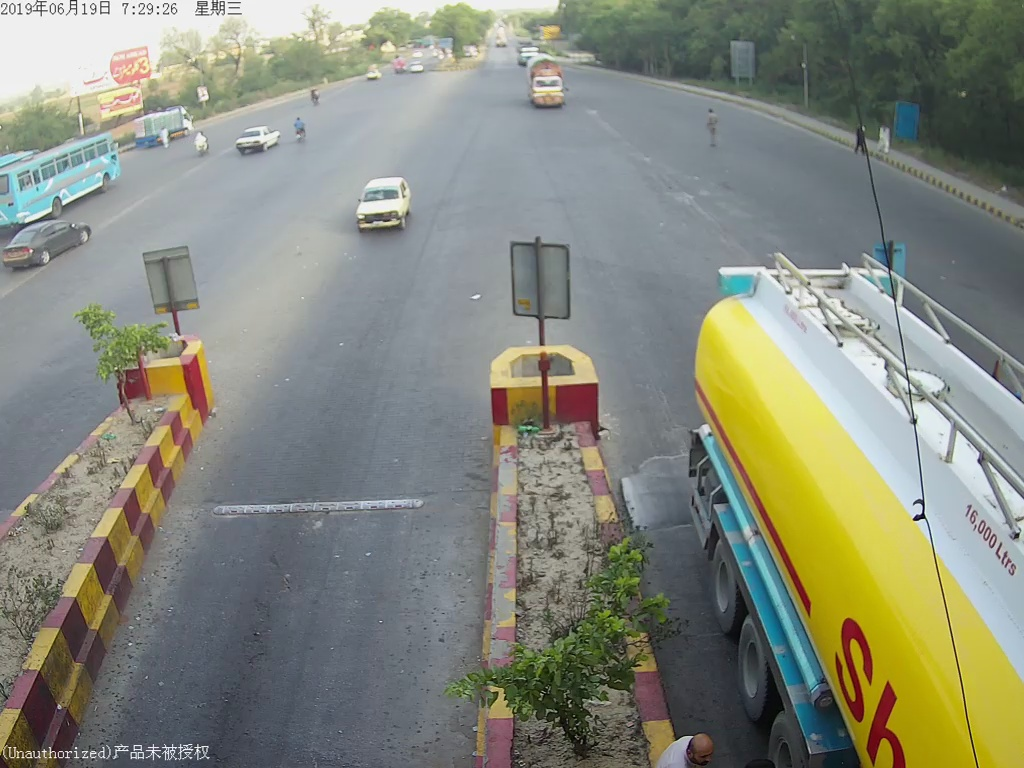Cat-1: (348, 183, 414, 228)
